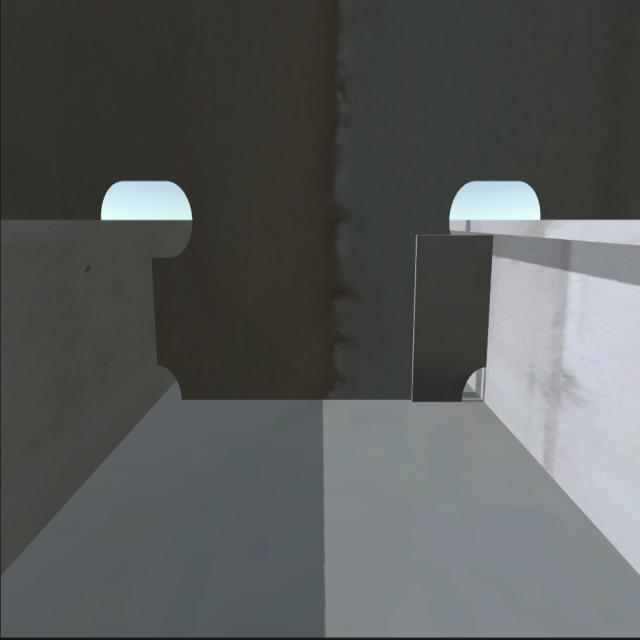fillet_hole: (153, 354, 186, 410), (449, 367, 488, 402)
fillet_yong_jeop_jang: (177, 383, 462, 409)
longi_yong_jeop_jang: (480, 230, 496, 373), (147, 256, 164, 373)
plate_CP01: (416, 226, 492, 402)
